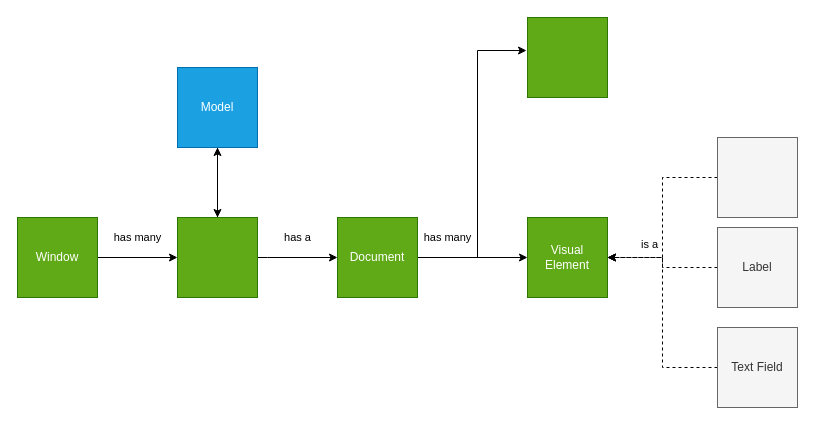
This 815x425 diagram has some shape labels left out. Here are the shapes that lost their labels. From the top down, the centre of each, then its label:
point 567,57: Style Sheet
point 757,177: Button
point 217,257: View
